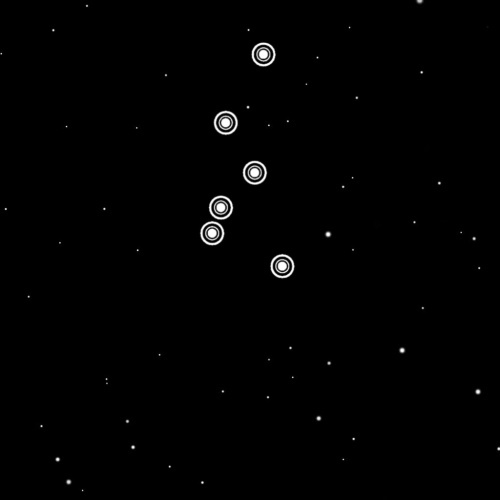cassiopeia: (192, 39, 299, 285)
